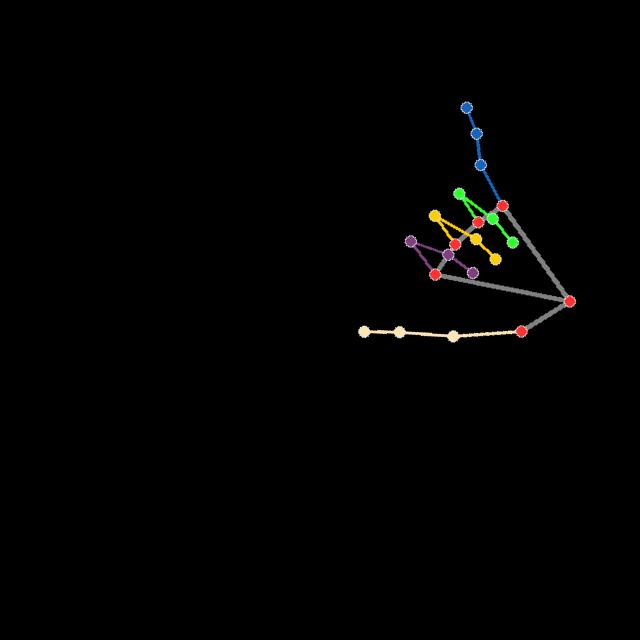skr: (354, 100, 579, 343)
